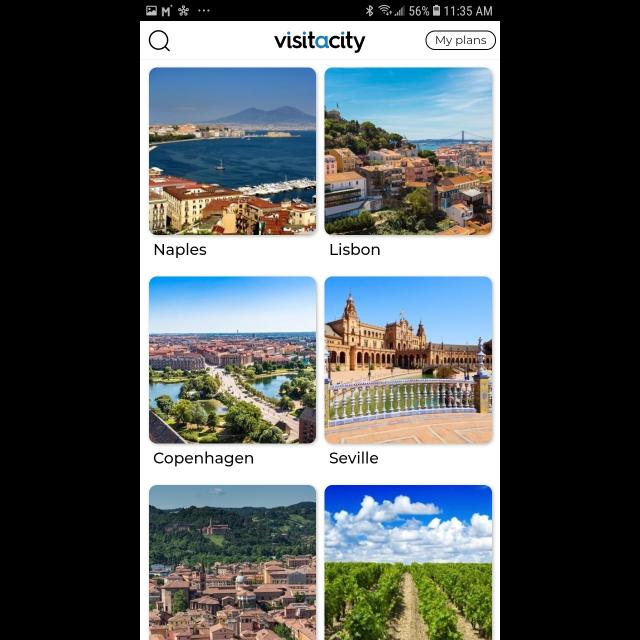icon: (150, 30, 170, 52)
image: (324, 276, 492, 444), (324, 68, 492, 235), (150, 276, 316, 444), (150, 68, 316, 235), (324, 484, 492, 640), (150, 484, 316, 640), (274, 31, 366, 53)
text: (154, 452, 253, 466), (155, 244, 207, 258), (330, 242, 380, 255), (329, 452, 378, 464)
textbutton: (426, 30, 496, 50)
uppertaskbar: (140, 1, 500, 22)
